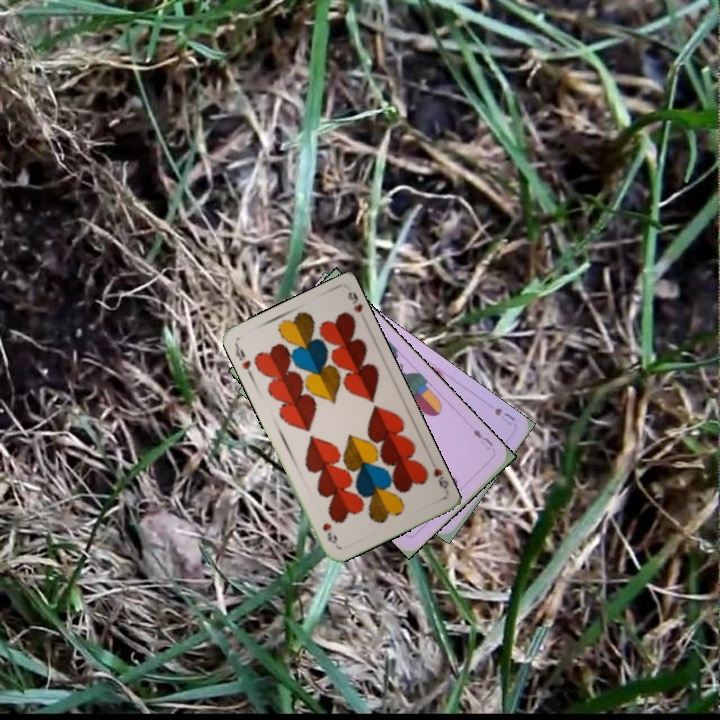EU: (469, 425, 495, 453)
H9: (231, 341, 255, 379), (428, 464, 450, 492)
SU: (488, 403, 518, 428)
